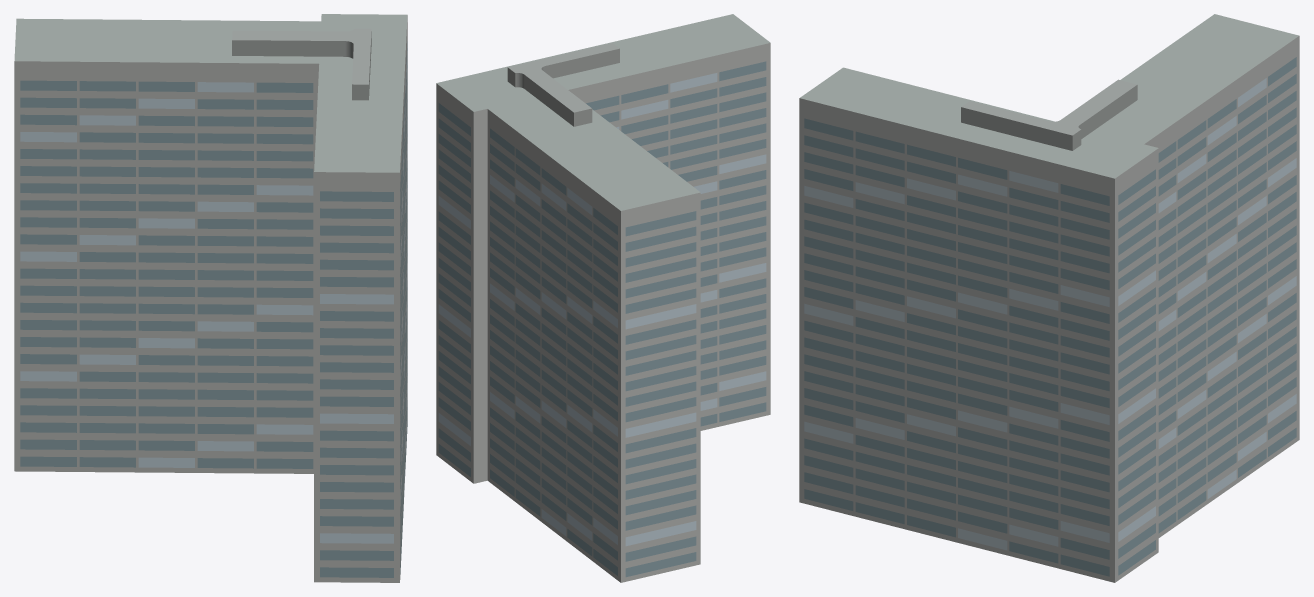
The model's file is apt-a15010304.glb.
3 views of the same model, side by side, from view 1: azimuth 30°, elevation 25°; view 2: azimuth 150°, elevation 25°; view 3: azimuth 270°, elevation 25° (orthographic). The views are drawn at different scales.
Visible parts, largest first — view 1: apt-a15010304; view 2: apt-a15010304; view 3: apt-a15010304.
Part boxes in pixels (bbox=[...]): apt-a15010304: bbox=[14, 14, 407, 582]; apt-a15010304: bbox=[436, 14, 770, 582]; apt-a15010304: bbox=[799, 14, 1299, 582].
Bounding box in the file's own units: 54.69 × 65 × 70.18.
